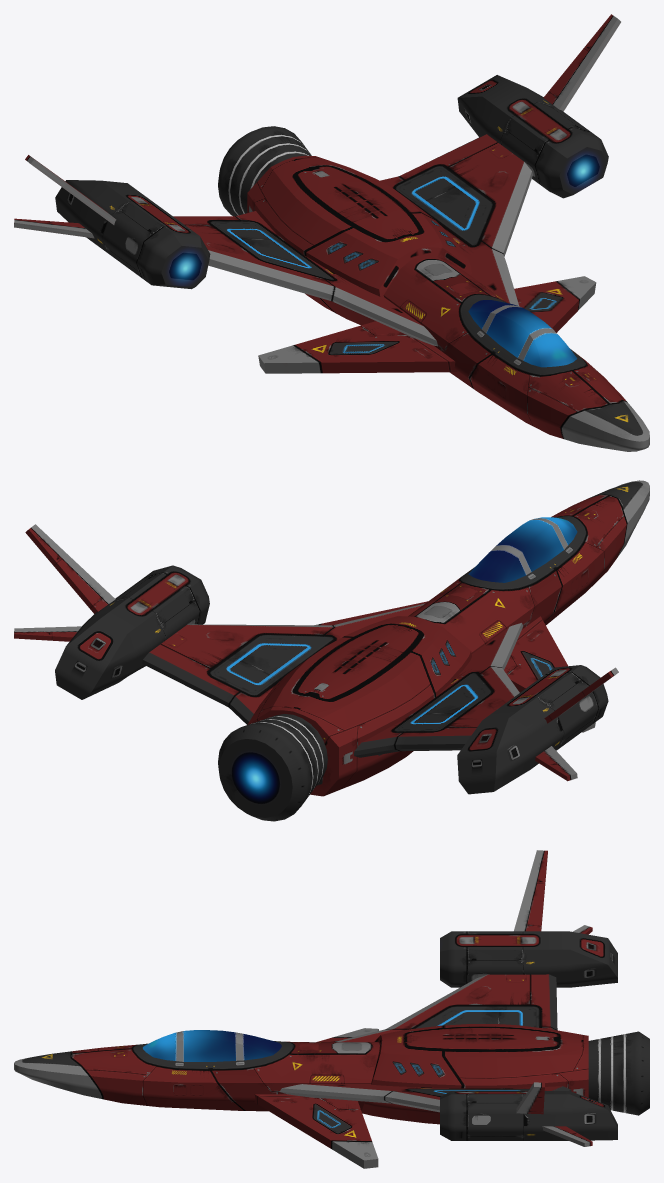
The model's file is corvette.glb.
The picture shows the model from 3 angles, top to bottom: view 1: azimuth 30°, elevation 25°; view 2: azimuth 150°, elevation 25°; view 3: azimuth 270°, elevation 25°; orthographic projection. The views are drawn at different scales.
Visible parts, largest first — view 1: StarSparrow_Core_New_6, StarSparrow_Wing.001_10, StarSparrow_Plasma.003_9, StarSparrow_Plasma.002_5, StarSparrow_Wing.002_11, StarSparrow_Tail.004_18, StarSparrow_Thruster.006_13, StarSparrow_Tail.003_17, StarSparrow_Fin.001_28, StarSparrow_Fin.004_31, StarSparrow_Fin.003_30; view 2: StarSparrow_Core_New_6, StarSparrow_Wing.001_10, StarSparrow_Plasma.003_9, StarSparrow_Plasma.002_5, StarSparrow_Thruster.006_13, StarSparrow_Wing.002_11, StarSparrow_Tail.004_18, StarSparrow_Fin.001_28, StarSparrow_Fin.002_29, StarSparrow_Fin.004_31, StarSparrow_Fin.003_30; view 3: StarSparrow_Core_New_6, StarSparrow_Plasma.002_5, StarSparrow_Plasma.003_9, StarSparrow_Wing.002_11, StarSparrow_Tail.003_17, StarSparrow_Thruster.006_13, StarSparrow_Wing.001_10, StarSparrow_Fin.003_30, StarSparrow_Fin.001_28, StarSparrow_Fin.002_29.
Part boxes in pixels (x1,y1,x2,y2): StarSparrow_Core_New_6: [247, 155, 649, 451]; StarSparrow_Wing.001_10: [380, 134, 532, 305]; StarSparrow_Plasma.003_9: [457, 75, 608, 198]; StarSparrow_Plasma.002_5: [55, 180, 210, 289]; StarSparrow_Wing.002_11: [173, 211, 437, 346]; StarSparrow_Tail.004_18: [258, 321, 457, 373]; StarSparrow_Thruster.006_13: [218, 126, 311, 216]; StarSparrow_Tail.003_17: [514, 276, 596, 332]; StarSparrow_Fin.001_28: [543, 14, 620, 111]; StarSparrow_Fin.004_31: [14, 218, 94, 238]; StarSparrow_Fin.003_30: [25, 155, 116, 224]; StarSparrow_Core_New_6: [247, 480, 649, 796]; StarSparrow_Wing.001_10: [142, 603, 424, 724]; StarSparrow_Plasma.003_9: [55, 565, 209, 699]; StarSparrow_Plasma.002_5: [457, 665, 608, 794]; StarSparrow_Thruster.006_13: [218, 714, 327, 821]; StarSparrow_Wing.002_11: [354, 623, 523, 757]; StarSparrow_Tail.004_18: [504, 616, 595, 732]; StarSparrow_Fin.001_28: [25, 524, 115, 613]; StarSparrow_Fin.002_29: [14, 626, 81, 641]; StarSparrow_Fin.004_31: [535, 746, 577, 781]; StarSparrow_Fin.003_30: [544, 667, 618, 723]; StarSparrow_Core_New_6: [14, 1024, 588, 1124]; StarSparrow_Plasma.002_5: [440, 931, 617, 987]; StarSparrow_Plasma.003_9: [440, 1091, 617, 1140]; StarSparrow_Wing.002_11: [335, 974, 557, 1041]; StarSparrow_Tail.003_17: [254, 1094, 378, 1168]; StarSparrow_Thruster.006_13: [588, 1031, 649, 1115]; StarSparrow_Wing.001_10: [279, 1084, 571, 1112]; StarSparrow_Fin.003_30: [514, 850, 547, 931]; StarSparrow_Fin.001_28: [516, 1082, 544, 1114]; StarSparrow_Fin.002_29: [542, 1126, 592, 1146].
Bounding box in the file's own units: 5.55 × 1.6 × 6.34.
Materials: 1 (1 with a texture image).
